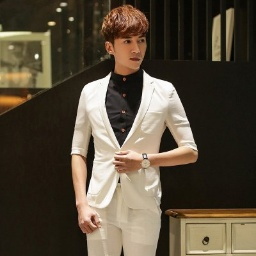face: (100, 4, 149, 73)
